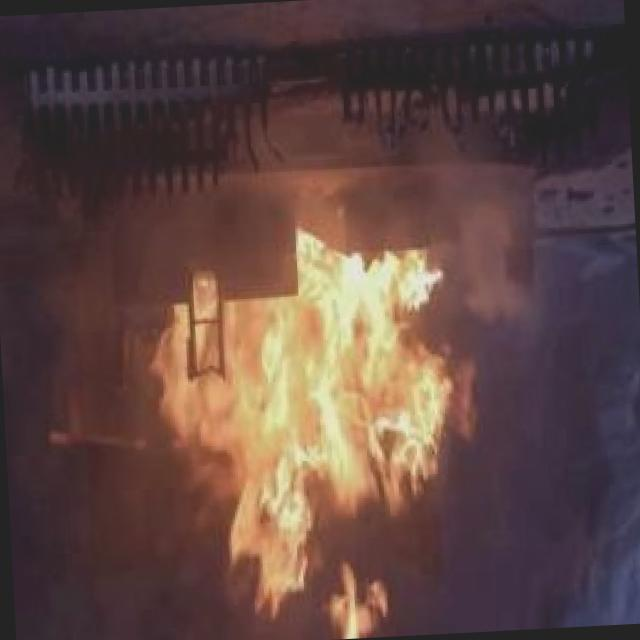fire: (122, 223, 508, 640)
